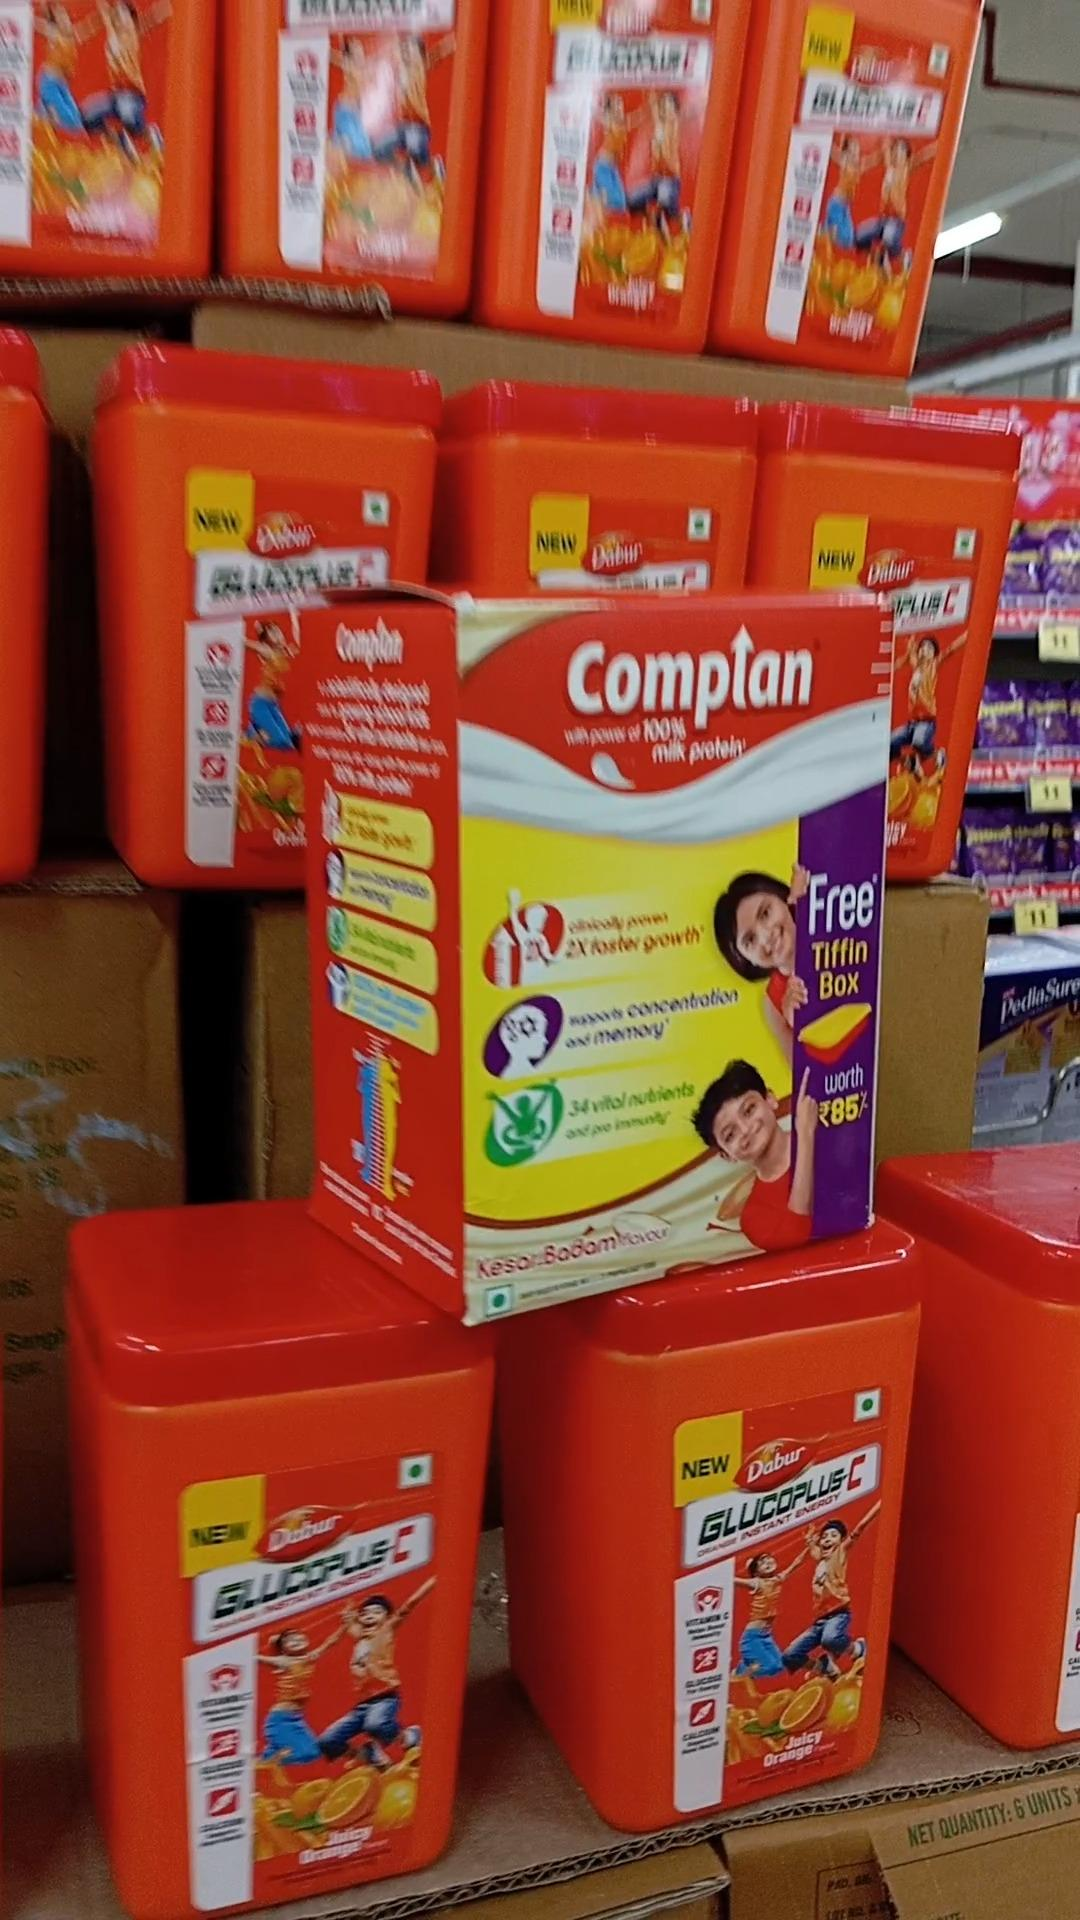COMPLAN_KESAR_BADAM_500_GMS_PACK: (463, 608, 887, 1319)
